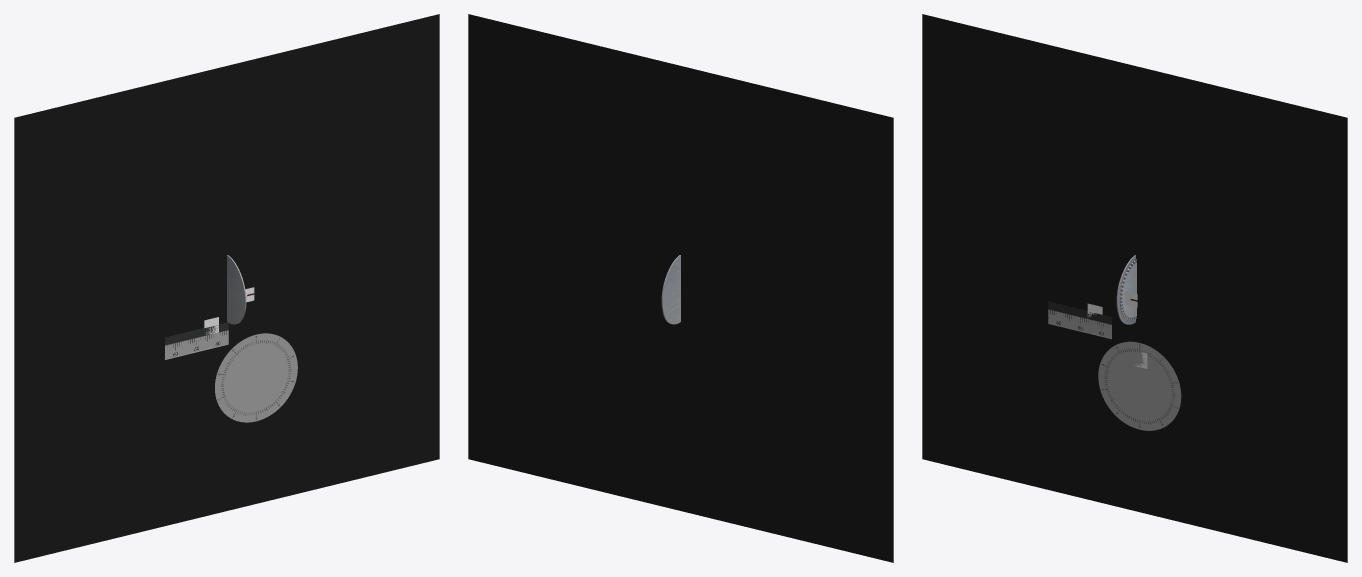
File: Read_Mode_Back.fbx
3 renders of one model, left to right at view 1: azimuth 30°, elevation 25°; view 2: azimuth 150°, elevation 25°; view 3: azimuth 330°, elevation 25°, orthographic.
Parts seen in each view (by area): view 1: Read_Mode_Back, Spain_Large2, Main_ruler, Spain_Small2; view 2: Read_Mode_Back, Spain_Small2; view 3: Read_Mode_Back, Spain_Large2, Main_ruler, Spain_Small2.
Boxes of the visible parts, x1,y1,x2,y2 form: Read_Mode_Back: (14,14,439,562); Spain_Large2: (215,333,297,422); Main_ruler: (165,322,228,359); Spain_Small2: (227,255,246,324); Read_Mode_Back: (468,14,893,562); Spain_Small2: (661,255,680,324); Read_Mode_Back: (922,14,1347,562); Spain_Large2: (1098,341,1181,430); Main_ruler: (1048,301,1111,339); Spain_Small2: (1116,255,1136,324).
Bounding box in the file's own units: 20 × 20 × 3.
